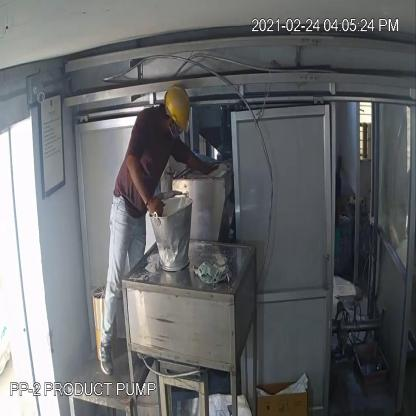helmet: (163, 81, 192, 135)
